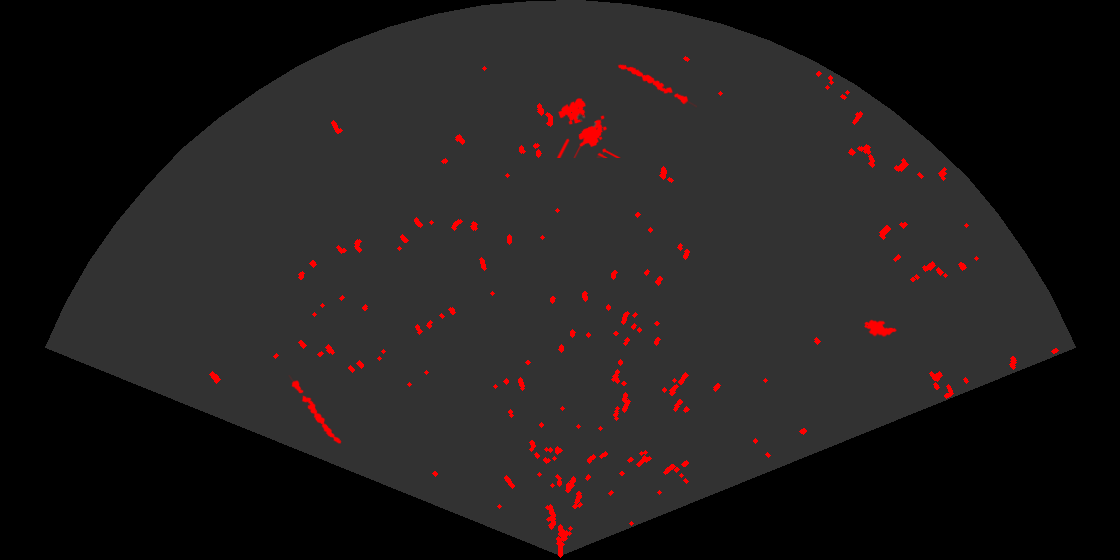AUV: (863, 318, 898, 337)
cage: (555, 96, 622, 158)
chain: (287, 375, 343, 445), (616, 63, 697, 109)
